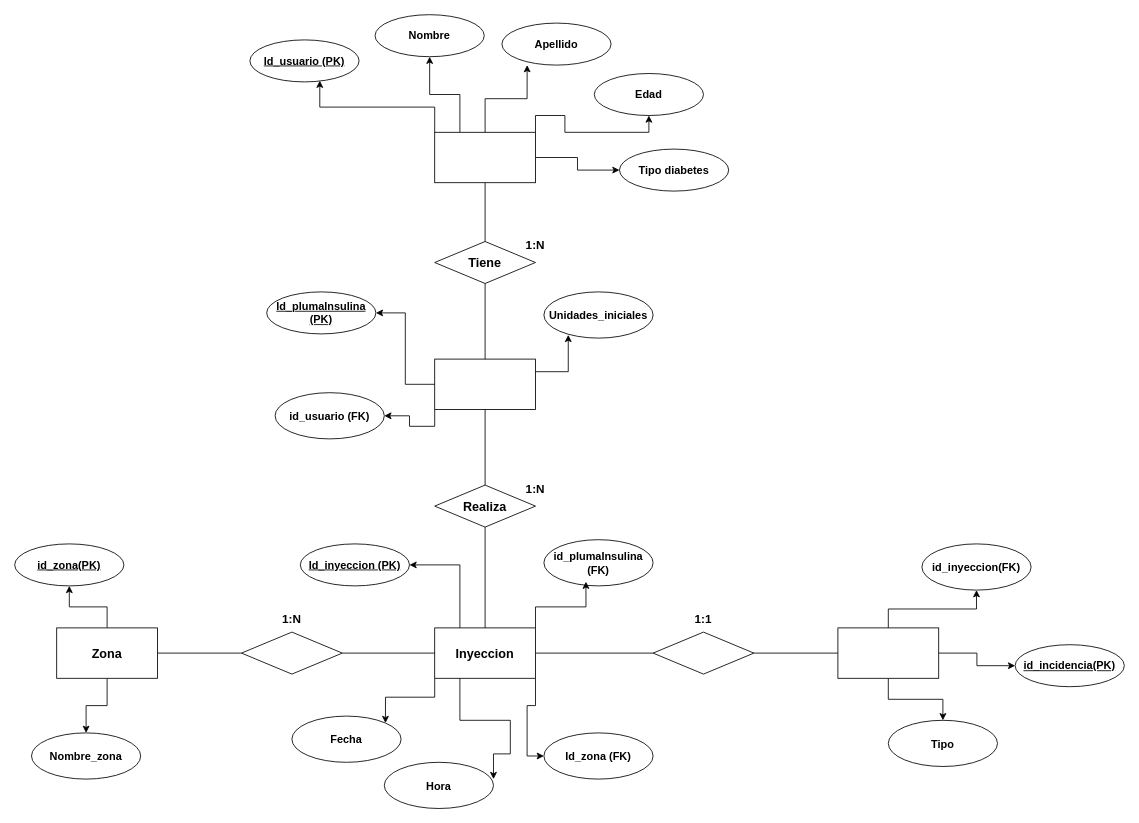
Image size: 1139x823. Some labels were removed from this diagram. Each missing label, with the centre of its shape:
Genera: the point at 703,652
Incidencia: the point at 888,652
Pluma_Insulina: the point at 485,384
Se_aplica: the point at 291,652
Usuario: the point at 485,157
